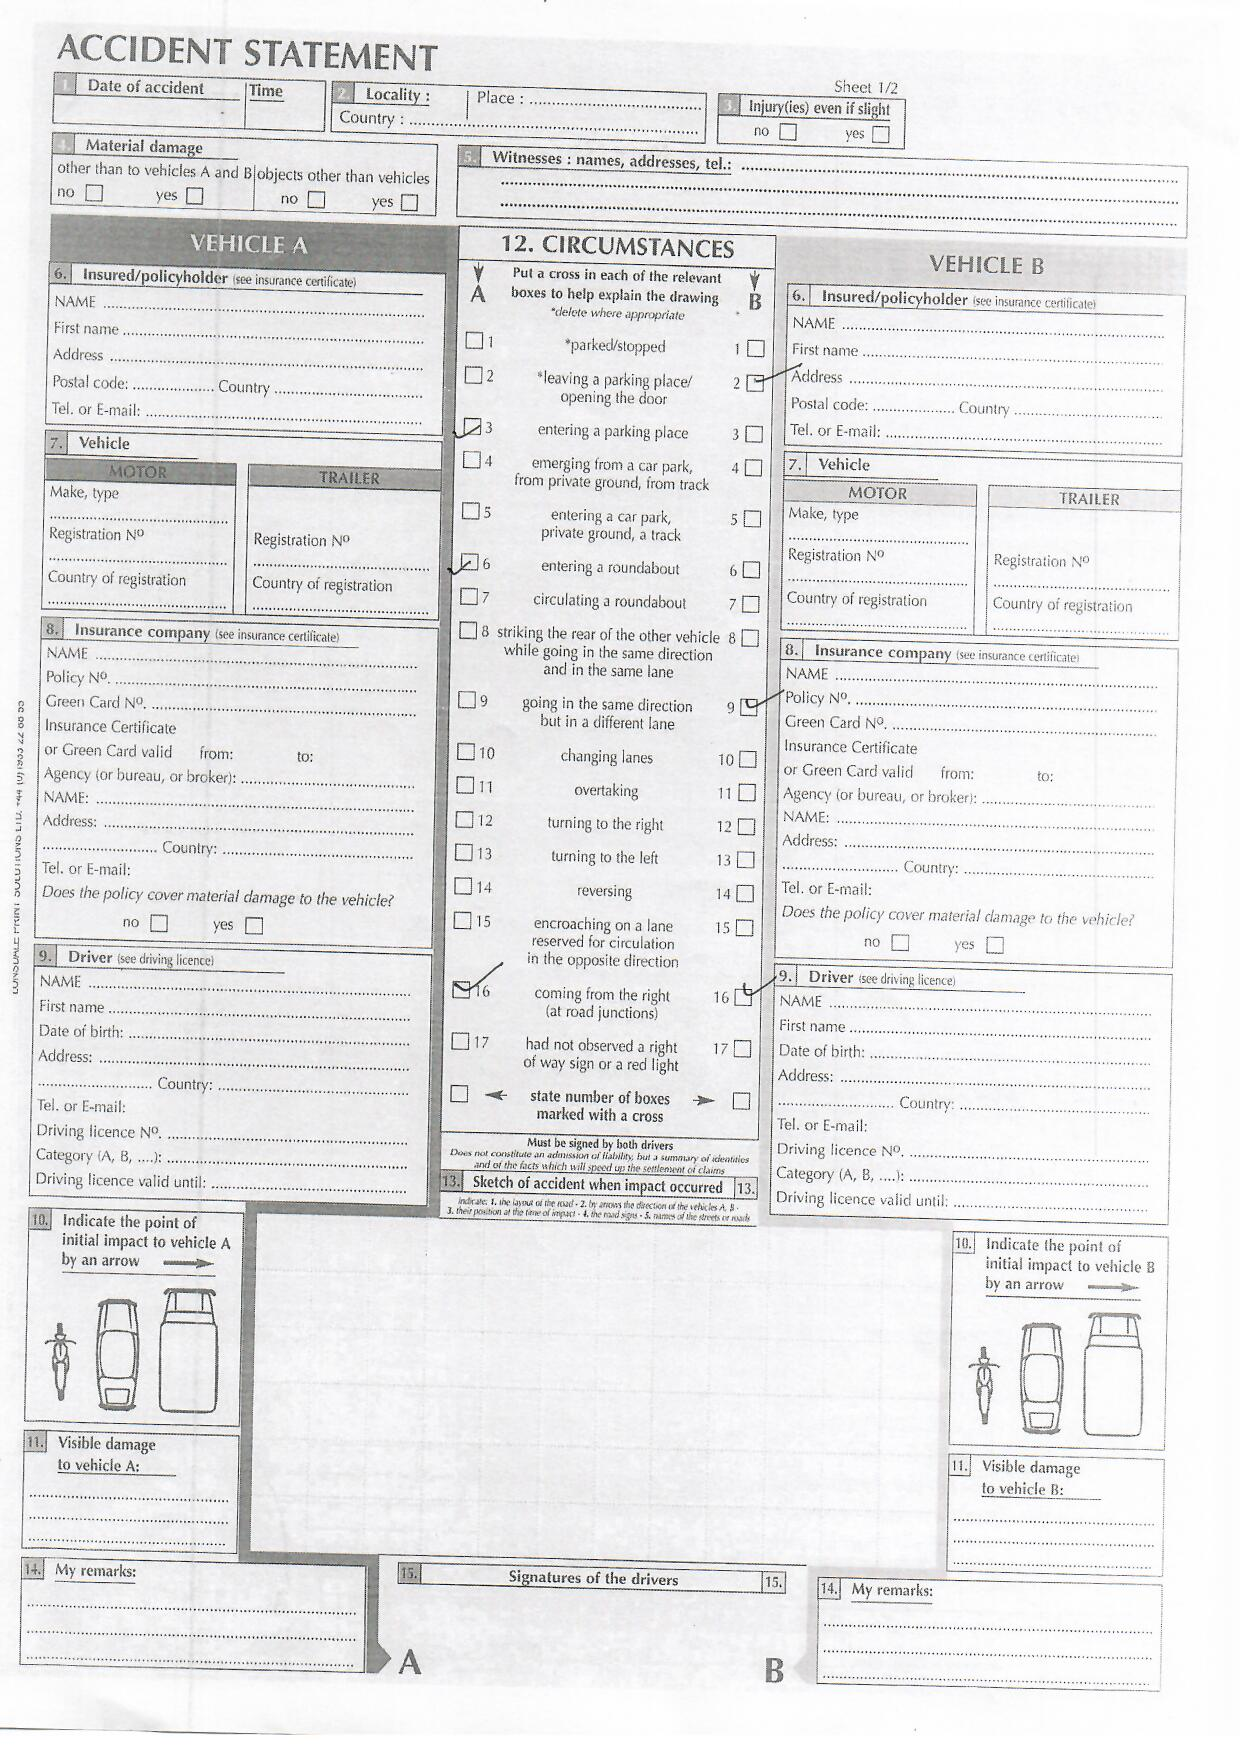a: (450, 974, 475, 1004), (458, 415, 486, 440), (735, 694, 761, 721), (730, 985, 757, 1011), (742, 370, 768, 396), (458, 548, 480, 574)
